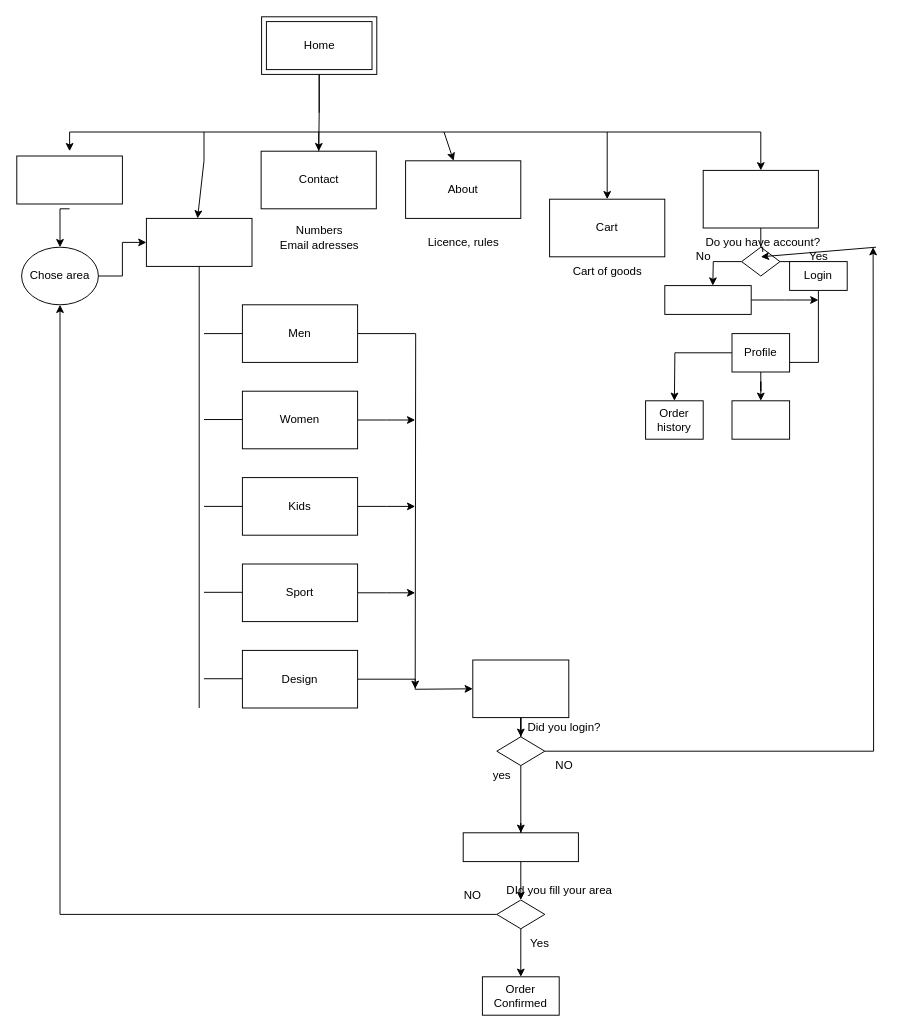
This 900x1032 diagram has some shape labels left out. Each missing label, with the centre of its shape:
"Account" goes at (760,198).
"Add to cart" goes at (520,688).
"Categories" goes at (198,241).
"Order" goes at (69,179).
"Registration" goes at (707,299).
"Settings" goes at (760,419).
"View order" goes at (520,847).
